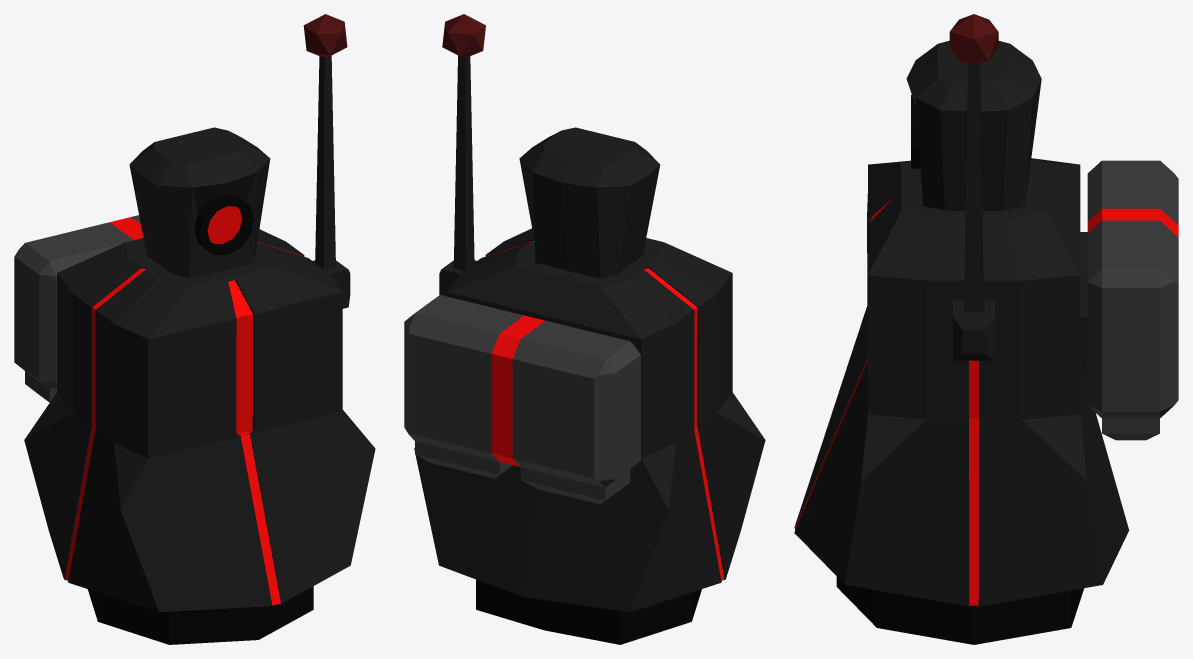
The model's file is PlayerRobot.fbx.
3 views of the same model, side by side, from view 1: azimuth 30°, elevation 25°; view 2: azimuth 150°, elevation 25°; view 3: azimuth 270°, elevation 25° (orthographic). The views are drawn at different scales.
Visible parts, largest first — view 1: PlayerRobot; view 2: PlayerRobot; view 3: PlayerRobot.
Part boxes in pixels (<box>): PlayerRobot: <box>14,14,375,644</box>; PlayerRobot: <box>404,14,765,644</box>; PlayerRobot: <box>794,14,1178,644</box>.
Size of the model in its own units: 52.93 by 99.93 by 54.03.
